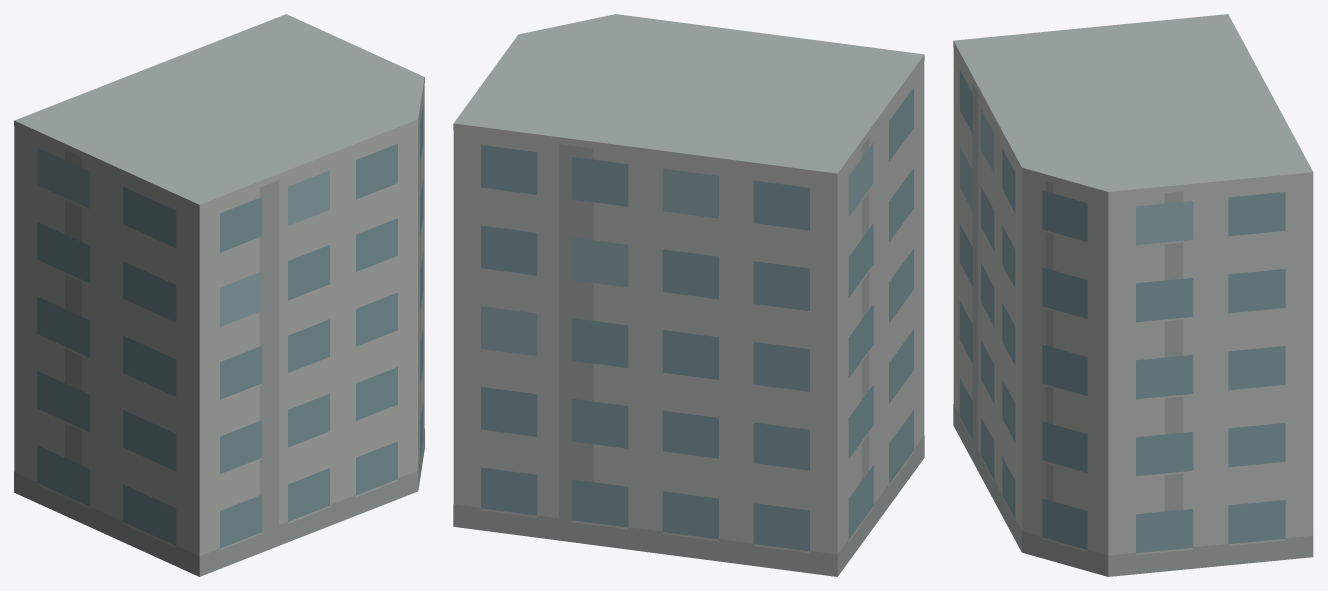
The model's file is survey-upis-32957833.glb.
The picture shows the model from 3 angles, left to right: view 1: azimuth 30°, elevation 25°; view 2: azimuth 150°, elevation 25°; view 3: azimuth 270°, elevation 25°; orthographic projection. The views are drawn at different scales.
Parts seen in each view (by area): view 1: survey-upis-32957833.tmp; view 2: survey-upis-32957833.tmp; view 3: survey-upis-32957833.tmp.
Part boxes in pixels (left/top/right/bottom): survey-upis-32957833.tmp: left=14, top=14, right=424, bottom=576; survey-upis-32957833.tmp: left=453, top=14, right=924, bottom=576; survey-upis-32957833.tmp: left=953, top=14, right=1313, bottom=576.
Bounding box in the file's own units: 14.29 × 14.4 × 12.21.
